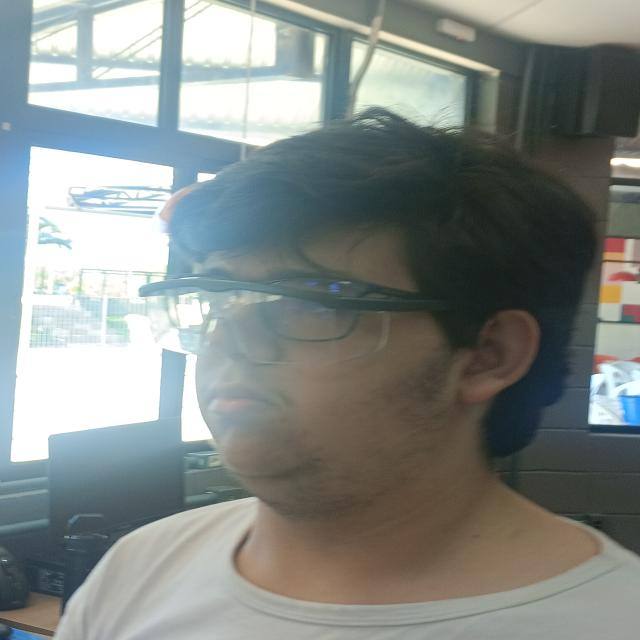oculos-epi: (139, 271, 448, 365)
